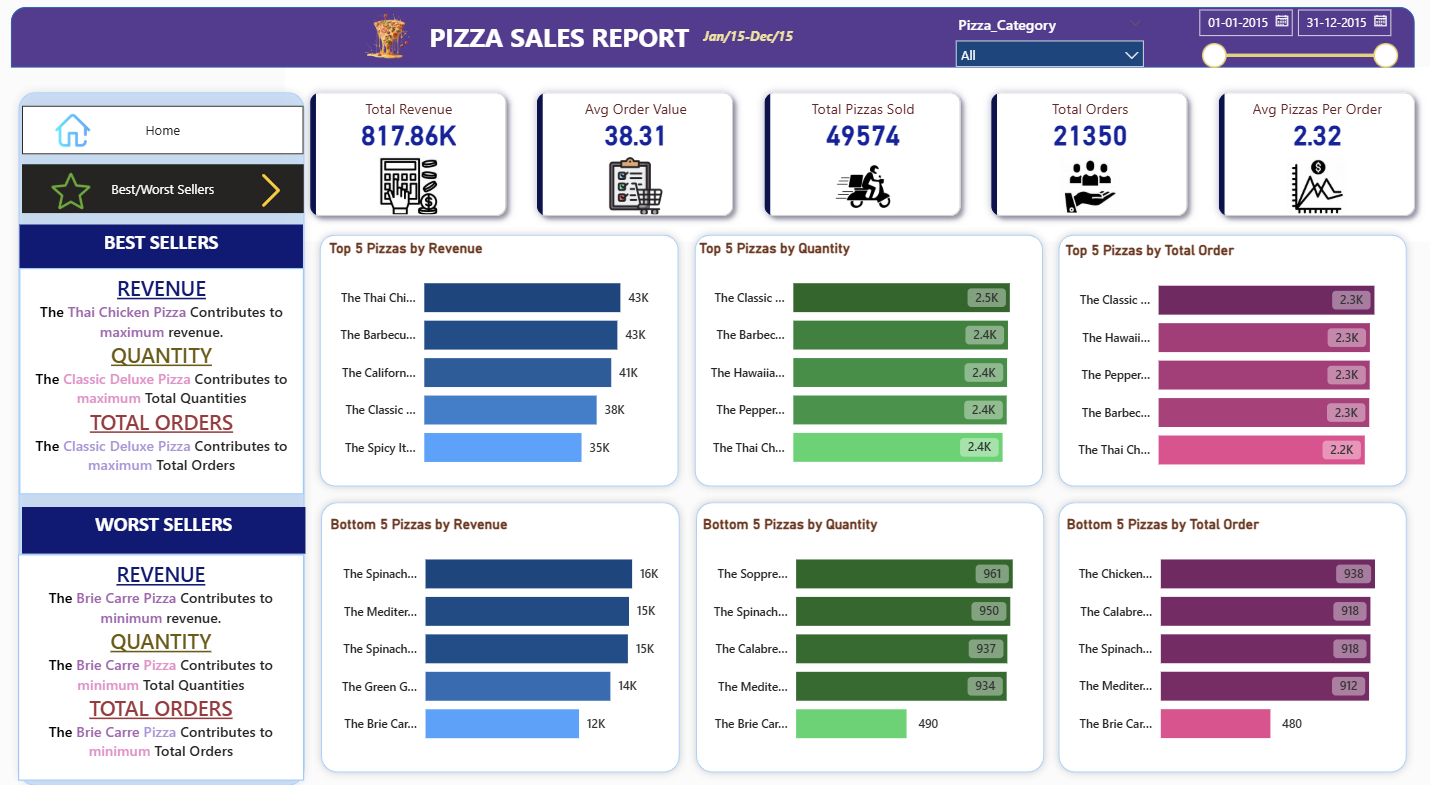

The dashboard page shown, as its layout file describes it:
{"tool":"powerbi","page":{"name":"Best/Worst Sellers","canvas":[1500,820],"ordinal":1},"visuals":[{"type":"cardVisual","fields":{"Data":["pizza_sales.Total Revenue","pizza_sales.Avg Order Value","pizza_sales.Total Pizzas Sold","pizza_sales.Total Orders","pizza_sales.Avg Pizzas Per Order"]},"box":[306.6,72.2,1193.7,179.9],"z":0},{"type":"shape","box":[25,10,1446.2,62.5],"z":1000},{"type":"textbox","box":[451,17.7,278,47.7],"z":2000},{"type":"textbox","box":[733.1,25.9,121.3,31.3],"z":3000},{"type":"shape","box":[24.5,89.9,310.7,730.4],"z":4000},{"type":"image","box":[387,6.8,51.8,68.1],"z":5000},{"type":"shape","box":[335.2,237.1,385.6,275.3],"z":6000},{"type":"textbox","box":[34.1,234.4,291.6,45],"z":7000},{"type":"textbox","box":[34.1,279.3,293,233],"z":8000},{"type":"textbox","box":[35.4,526,291.6,47.7],"z":9000},{"type":"textbox","box":[32.7,573.7,294.3,233],"z":10000},{"type":"slicer","fields":{"Values":["pizza_sales.pizza_category"]},"box":[987.9,12.3,213.9,60],"z":11000},{"type":"slicer","fields":{"Values":["pizza_sales.order_date"]},"box":[1235.9,2.7,226.2,79],"z":12000},{"type":"shape","box":[720.8,237.1,374.7,275.3],"z":13000},{"type":"shape","box":[1095.6,237.1,374.7,275.3],"z":14000},{"type":"shape","box":[336.6,512.4,385.6,294.3],"z":15000},{"type":"shape","box":[722.2,512.4,374.7,294.3],"z":16000},{"type":"shape","box":[1095.6,512.4,374.7,294.3],"z":17000},{"type":"barChart","title":"Top 5 Pizzas by Revenue","fields":{"Category":["pizza_sales.pizza_name"],"Y":["pizza_sales.Total Revenue"]},"box":[347.3,249.3,360.2,250.9],"z":18000},{"type":"barChart","title":"Bottom 5 Pizzas by Revenue","fields":{"Category":["pizza_sales.pizza_name"],"Y":["pizza_sales.Total Revenue"]},"box":[349,533.9,360.2,250.9],"z":19000},{"type":"barChart","title":"Top 5 Pizzas by Quantity","fields":{"Category":["pizza_sales.pizza_name"],"Y":["pizza_sales.Total Pizzas Sold"]},"box":[729,249.4,354.3,250.7],"z":20000},{"type":"barChart","title":"Bottom 5 Pizzas by Quantity","fields":{"Category":["pizza_sales.pizza_name"],"Y":["pizza_sales.Total Pizzas Sold"]},"box":[733.3,533.9,353.8,250.9],"z":21000},{"type":"barChart","title":"Top 5 Pizzas by Total Order","fields":{"Category":["pizza_sales.pizza_name"],"Y":["pizza_sales.Total Orders"]},"box":[1106.4,252.5,353.8,250.9],"z":22000},{"type":"barChart","title":"Bottom 5 Pizzas by Total Order","fields":{"Category":["pizza_sales.pizza_name"],"Y":["pizza_sales.Total Orders"]},"box":[1107.8,534.2,354.3,250.7],"z":23000},{"type":"pageNavigator","box":[35.4,111.7,290.2,50.4],"z":24000},{"type":"pageNavigator","box":[35.4,173.1,290.2,50.4],"z":25000},{"type":"image","box":[238.5,181.2,109,35.4],"z":26000},{"type":"image","box":[62.7,119.9,50.4,35.4],"z":27000},{"type":"image","box":[58.6,179.9,54.5,39.5],"z":28000}]}

Visuals, with their boxes in screenshot pixels (x1, y1, x2, y2), scaled from the page's 1500x820 canvas onto the 1430x785 screenshot:
cardVisual - pizza_sales.Total Revenue x pizza_sales.Avg Order Value: [x1=292, y1=69, x2=1429, y2=241]
shape: [x1=24, y1=10, x2=1403, y2=69]
textbox: [x1=430, y1=17, x2=695, y2=63]
textbox: [x1=699, y1=25, x2=815, y2=55]
shape: [x1=23, y1=86, x2=320, y2=784]
image: [x1=369, y1=7, x2=418, y2=72]
shape: [x1=320, y1=227, x2=687, y2=491]
textbox: [x1=33, y1=224, x2=311, y2=267]
textbox: [x1=33, y1=267, x2=312, y2=490]
textbox: [x1=34, y1=504, x2=312, y2=549]
textbox: [x1=31, y1=549, x2=312, y2=772]
slicer - pizza_sales.pizza_category: [x1=942, y1=12, x2=1146, y2=69]
slicer - pizza_sales.order_date: [x1=1178, y1=3, x2=1394, y2=78]
shape: [x1=687, y1=227, x2=1044, y2=491]
shape: [x1=1044, y1=227, x2=1402, y2=491]
shape: [x1=321, y1=491, x2=688, y2=772]
shape: [x1=688, y1=491, x2=1046, y2=772]
shape: [x1=1044, y1=491, x2=1402, y2=772]
"Top 5 Pizzas by Revenue" barChart: [x1=331, y1=239, x2=674, y2=479]
"Bottom 5 Pizzas by Revenue" barChart: [x1=333, y1=511, x2=676, y2=751]
"Top 5 Pizzas by Quantity" barChart: [x1=695, y1=239, x2=1033, y2=479]
"Bottom 5 Pizzas by Quantity" barChart: [x1=699, y1=511, x2=1036, y2=751]
"Top 5 Pizzas by Total Order" barChart: [x1=1055, y1=242, x2=1392, y2=482]
"Bottom 5 Pizzas by Total Order" barChart: [x1=1056, y1=511, x2=1394, y2=751]
pageNavigator: [x1=34, y1=107, x2=310, y2=155]
pageNavigator: [x1=34, y1=166, x2=310, y2=214]
image: [x1=227, y1=173, x2=331, y2=207]
image: [x1=60, y1=115, x2=108, y2=149]
image: [x1=56, y1=172, x2=108, y2=210]
